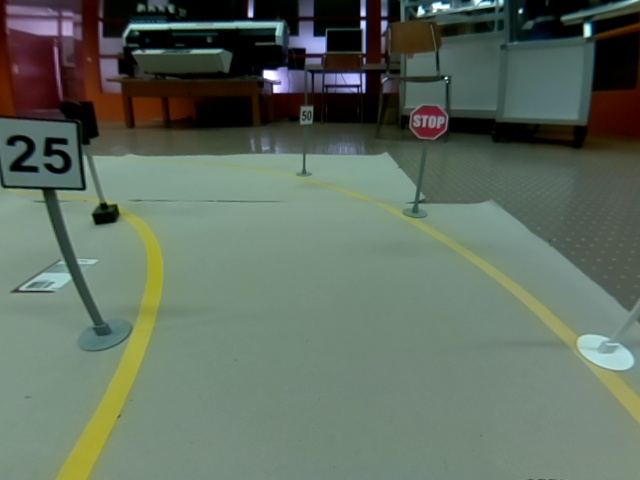speed25: (1, 114, 86, 191)
speed50: (300, 105, 314, 125)
stop: (409, 104, 448, 140)
trafficLightOff: (60, 99, 99, 140)
